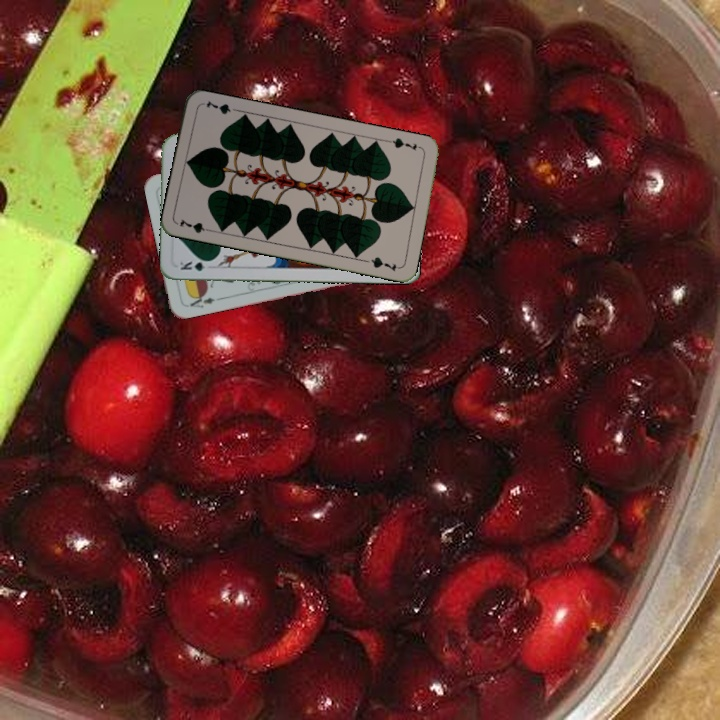EA: (186, 290, 223, 311)
G7: (176, 215, 216, 236), (384, 134, 425, 153)
GK: (176, 257, 215, 274)
